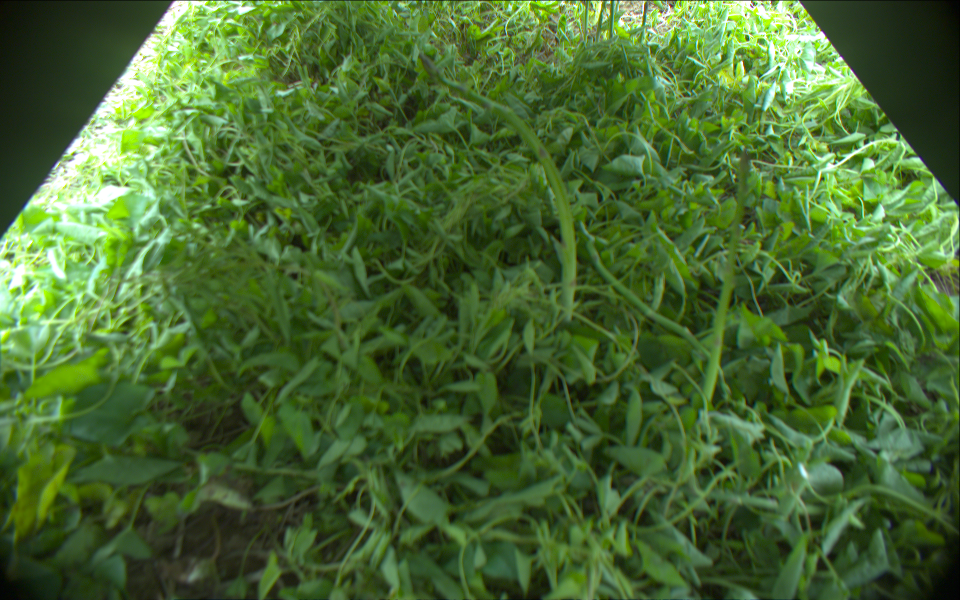aspa: (420, 53, 579, 322), (582, 214, 731, 400), (701, 147, 750, 405), (639, 1, 650, 40), (597, 1, 606, 38), (609, 1, 618, 36), (583, 1, 589, 35)
